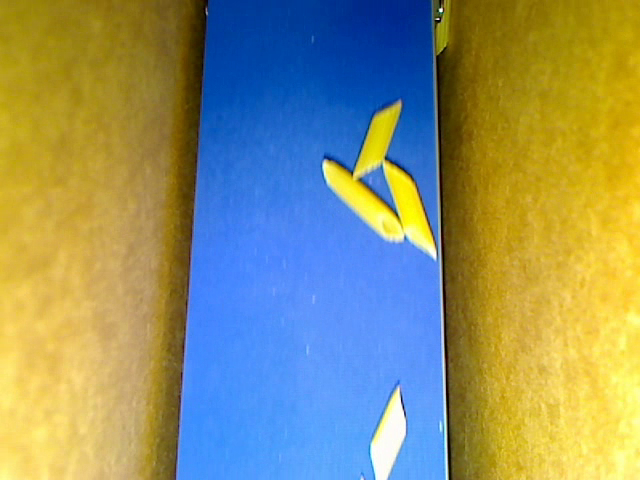penne: (319, 157, 403, 241), (376, 156, 439, 264), (349, 99, 403, 180), (366, 379, 410, 476), (428, 1, 450, 59)
